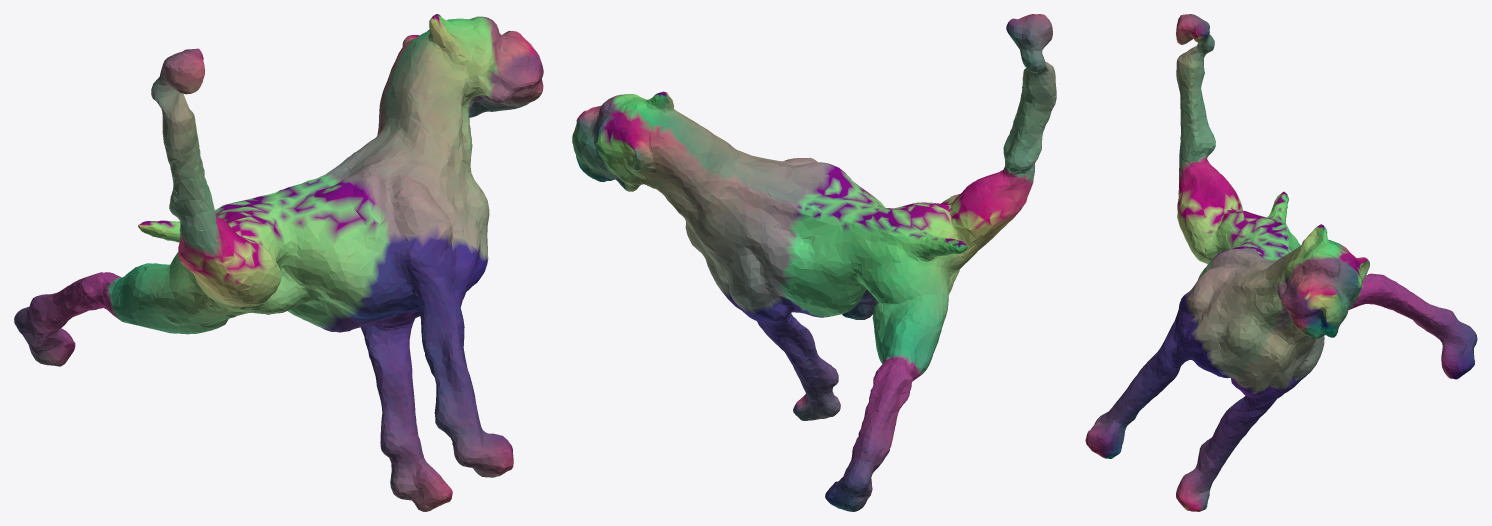
Rendered from dog1-7.off.obj.
3 renders of one model, left to right at view 1: azimuth 30°, elevation 25°; view 2: azimuth 150°, elevation 25°; view 3: azimuth 270°, elevation 25°, orthographic. The views are drawn at different scales.
Bounding box in the file's own units: 1.2 × 1.3 × 1.16.
